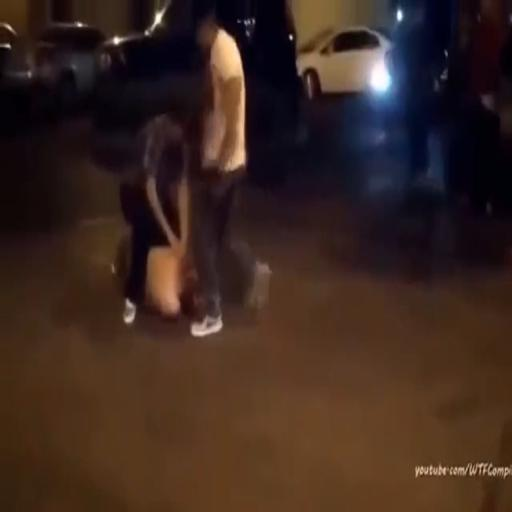violencia: (112, 76, 213, 350)
